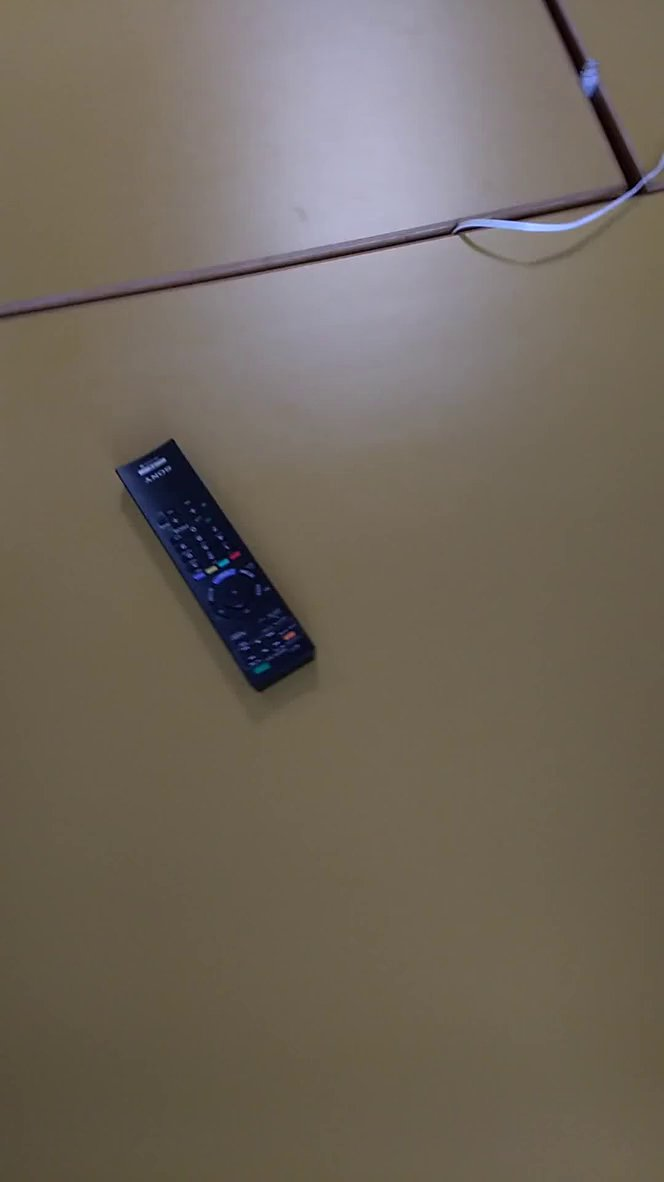remote: (112, 423, 327, 706)
